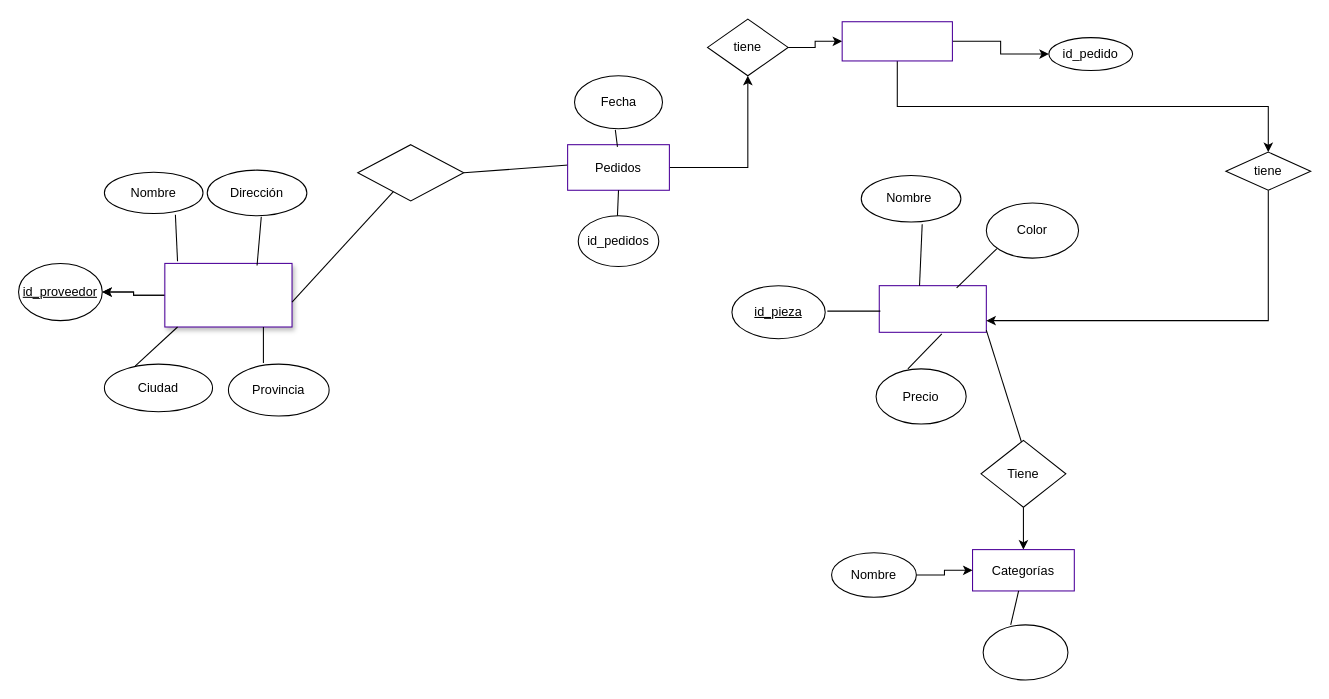
Image size: 1329x699. Some labels were removed from this diagram. The centre of each missing label's shape, as x and y in pixels:
id_categoría: (1025,652)
Línea de pedido: (896,41)
Piezas: (932,308)
PROVEEDORES: (229,296)
Suministra: (410,172)
